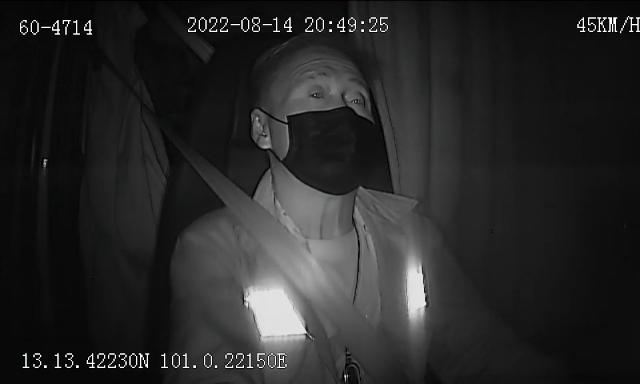Seatbelt: (159, 124, 405, 384)
